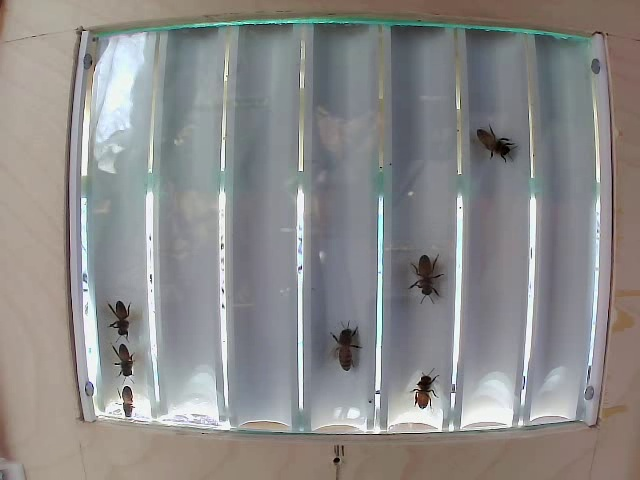bee: (480, 123, 521, 177), (106, 342, 145, 390), (333, 311, 360, 364), (100, 296, 137, 332), (403, 372, 433, 415), (416, 252, 441, 301), (101, 396, 137, 422)
